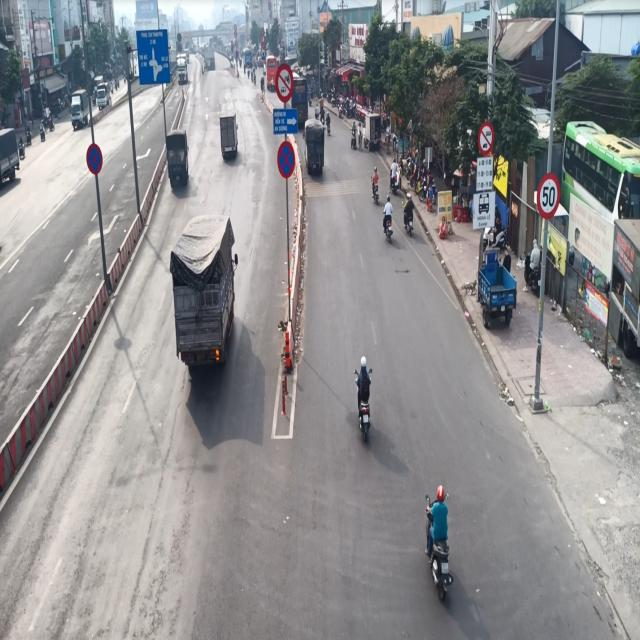motor: (424, 469, 461, 605), (349, 350, 378, 443), (381, 192, 398, 248)
truck: (167, 206, 241, 380), (303, 117, 329, 186), (166, 124, 190, 196), (215, 110, 241, 164)
